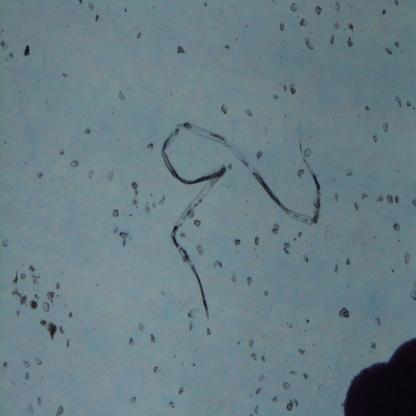Background material: (112, 226, 131, 248), (12, 289, 29, 308), (45, 320, 59, 343), (130, 178, 140, 209), (302, 34, 318, 53), (338, 305, 351, 323), (409, 275, 416, 308), (186, 306, 201, 321), (280, 240, 294, 256), (269, 222, 284, 236), (284, 400, 303, 411), (10, 268, 21, 286), (68, 157, 82, 171), (21, 357, 34, 372), (372, 314, 384, 330), (192, 218, 205, 232), (175, 43, 188, 57), (279, 380, 294, 392), (35, 169, 47, 184), (386, 194, 401, 206), (245, 336, 256, 352), (278, 19, 288, 36), (392, 94, 404, 108), (110, 206, 122, 220), (313, 4, 324, 19), (289, 84, 300, 99), (0, 37, 11, 52), (220, 101, 231, 116), (297, 166, 307, 182), (194, 244, 206, 257), (63, 338, 74, 352), (41, 302, 52, 316), (333, 191, 342, 208), (328, 31, 337, 48), (66, 307, 76, 322), (392, 220, 402, 235), (0, 236, 10, 251), (145, 140, 157, 152), (229, 272, 241, 284), (116, 90, 128, 102), (157, 194, 168, 207), (4, 51, 15, 64), (22, 370, 32, 384), (245, 276, 255, 290), (271, 394, 281, 408), (382, 122, 392, 136), (186, 322, 196, 336), (106, 170, 116, 184), (370, 132, 380, 146), (403, 251, 411, 268), (244, 108, 255, 120), (359, 191, 371, 202), (383, 45, 394, 57), (289, 2, 300, 14), (46, 290, 56, 303), (247, 353, 260, 363), (137, 323, 147, 336), (258, 372, 268, 385), (149, 332, 158, 346), (253, 238, 262, 252), (23, 44, 32, 58), (233, 238, 244, 249), (179, 231, 190, 242), (54, 404, 65, 415), (251, 403, 262, 414), (86, 170, 96, 182), (143, 204, 153, 216), (30, 274, 40, 286), (298, 18, 308, 30), (334, 2, 344, 14), (27, 264, 37, 276), (24, 402, 34, 414), (34, 356, 44, 368), (29, 300, 39, 312), (1, 360, 11, 372), (57, 148, 67, 160), (128, 336, 136, 350), (380, 6, 388, 20), (260, 356, 270, 367), (262, 288, 272, 299), (347, 38, 357, 49), (393, 40, 403, 51), (254, 386, 263, 398), (168, 398, 177, 410), (255, 150, 264, 162), (376, 194, 385, 206), (345, 170, 357, 179), (410, 195, 416, 213), (93, 12, 101, 25), (304, 146, 312, 159), (214, 260, 224, 270), (38, 318, 48, 328), (347, 24, 357, 34), (345, 256, 354, 267), (58, 326, 67, 337), (364, 104, 371, 118), (178, 386, 186, 398), (353, 202, 361, 214), (88, 1, 96, 13), (54, 280, 62, 292), (84, 125, 92, 137), (298, 349, 307, 359), (152, 365, 161, 375), (272, 93, 282, 102), (204, 328, 212, 339), (36, 396, 44, 407), (288, 369, 299, 377), (304, 253, 310, 267), (334, 262, 340, 276), (129, 396, 138, 405), (370, 340, 378, 350), (332, 21, 340, 31), (136, 31, 144, 41), (302, 370, 310, 380), (20, 271, 27, 282), (282, 82, 288, 94), (227, 162, 233, 172), (405, 100, 412, 108), (152, 202, 158, 211), (298, 231, 304, 240), (61, 72, 69, 78), (395, 1, 401, 7), (224, 45, 231, 49), (79, 1, 84, 5), (235, 36, 238, 41), (246, 24, 250, 27), (260, 73, 263, 76), (259, 55, 261, 59)
Cotton: (162, 114, 323, 326)
Pen: (341, 337, 416, 416)
